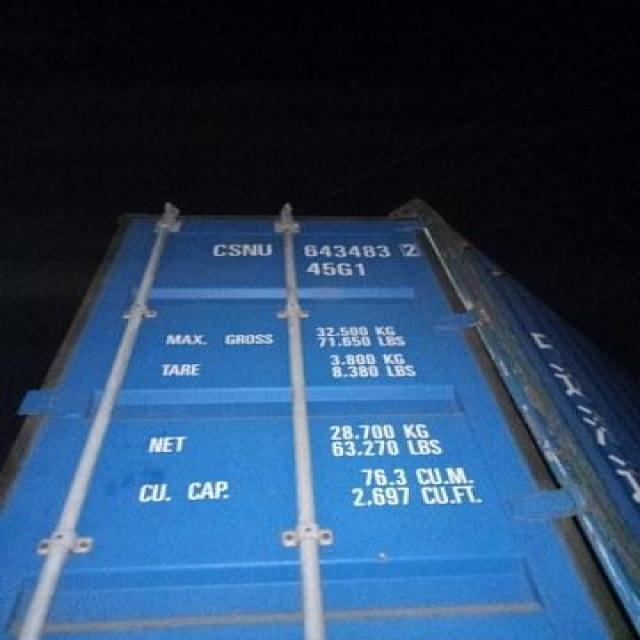ISO: (309, 263, 366, 279)
container_number: (209, 237, 425, 261)
